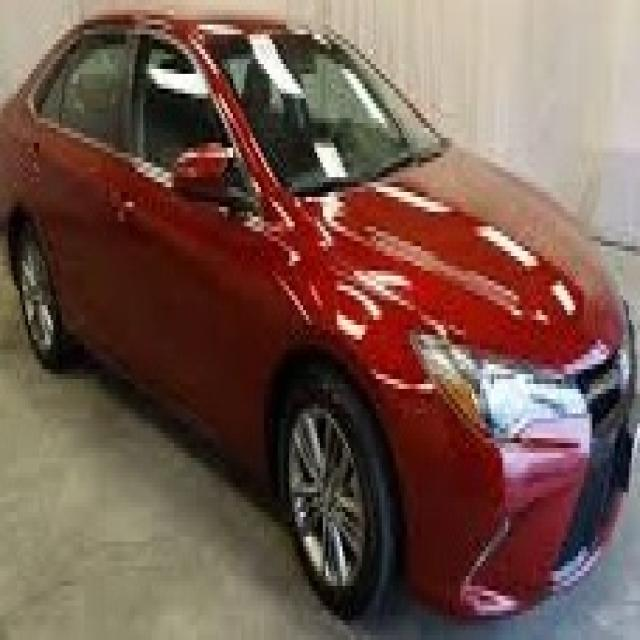maroon: (2, 10, 640, 607)
